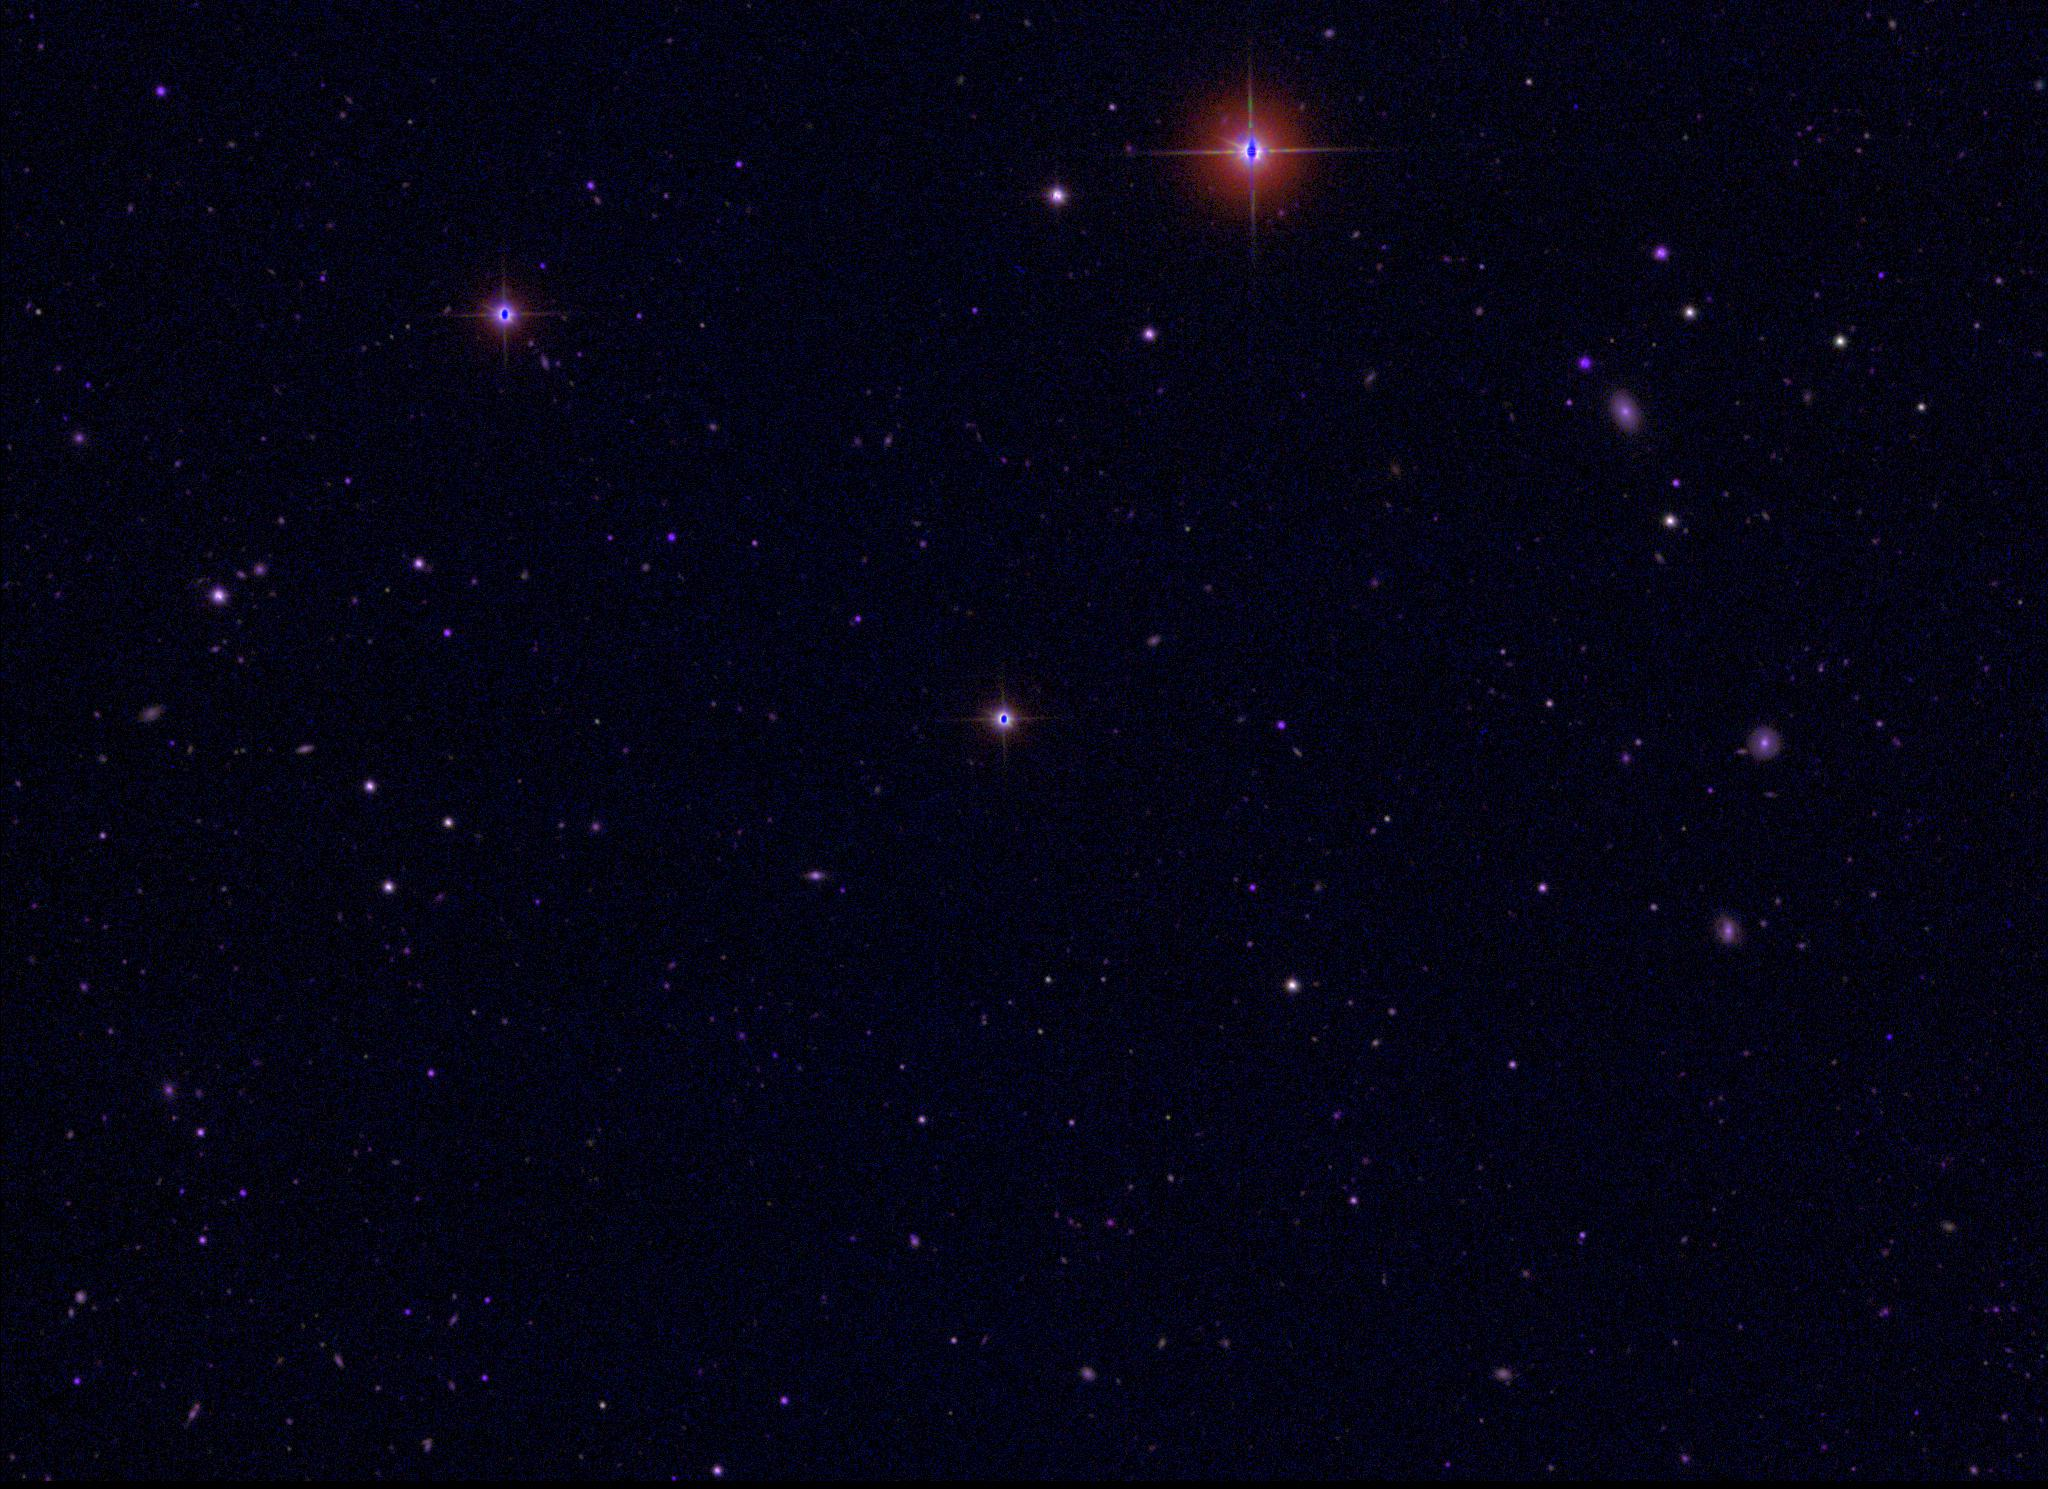L: (1569, 99, 1584, 113)
